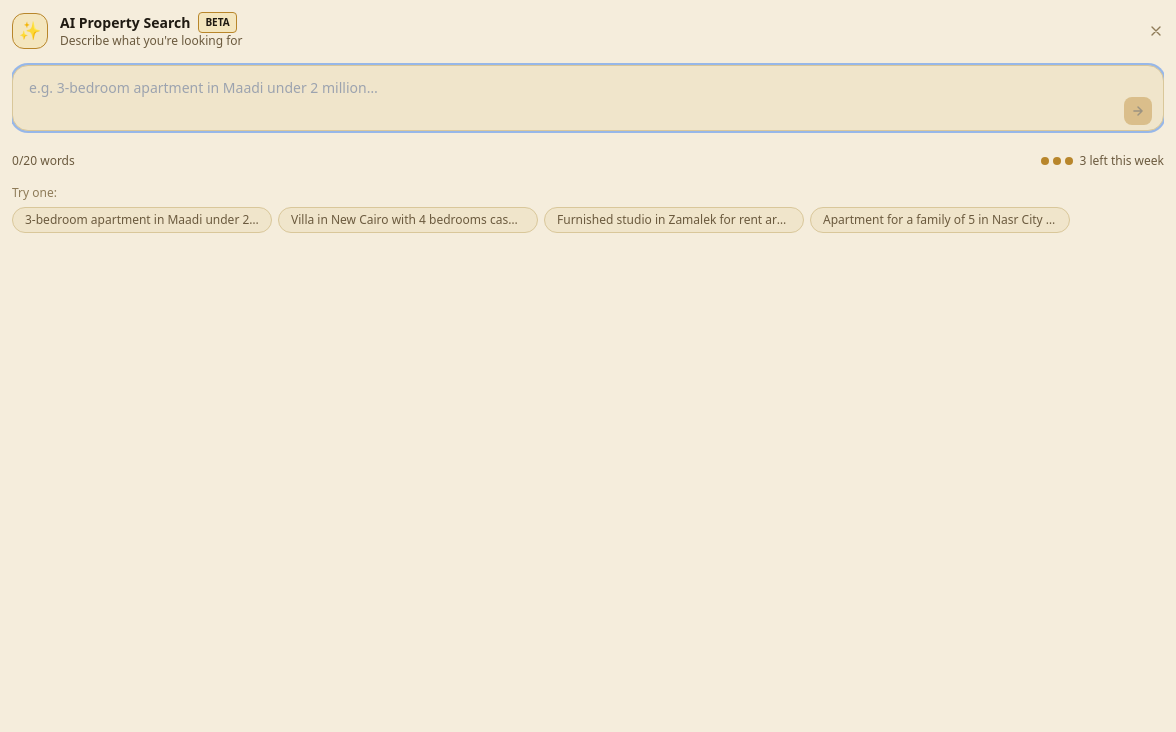
Scenario: AISearchPanel › renders plausibility corrections in details
The width and height of the screenshot is (1176, 732).
Type "3 bedroom apartment in Maadi under 2 million" into the text box with placeholder "e.g. 3-bedroom apartment in Maadi under 2 million…" at (588, 98), box [12, 65, 1164, 131]
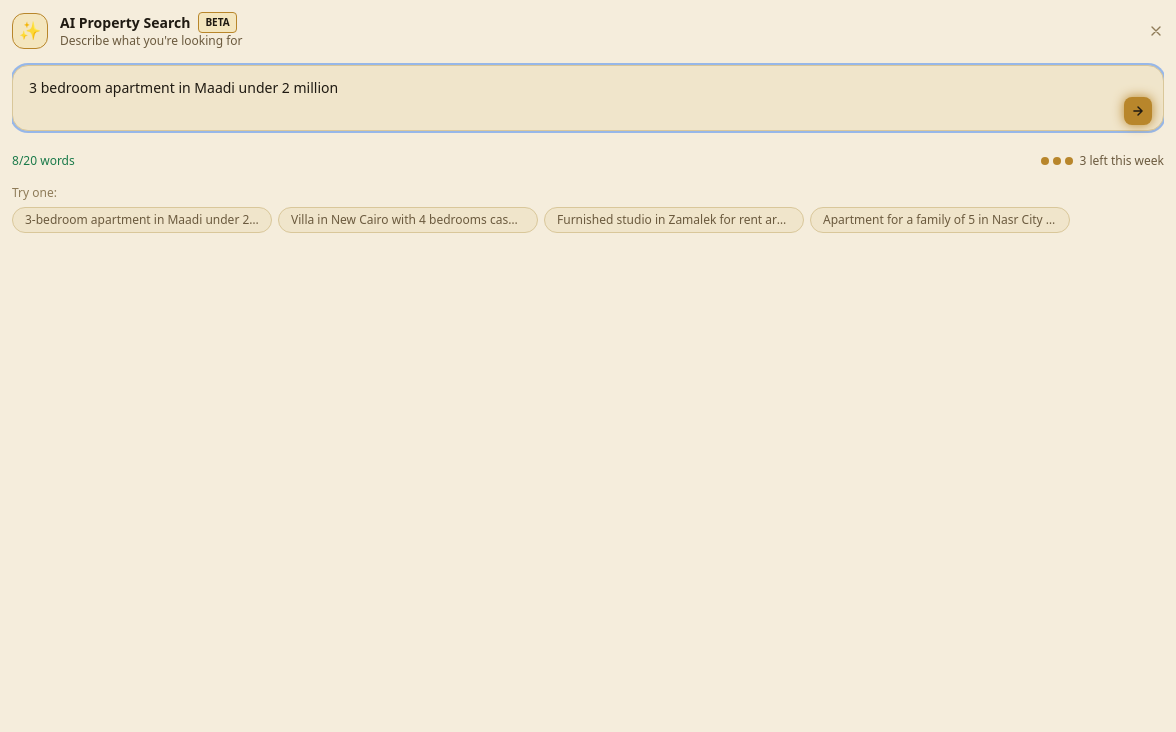
Press Enter
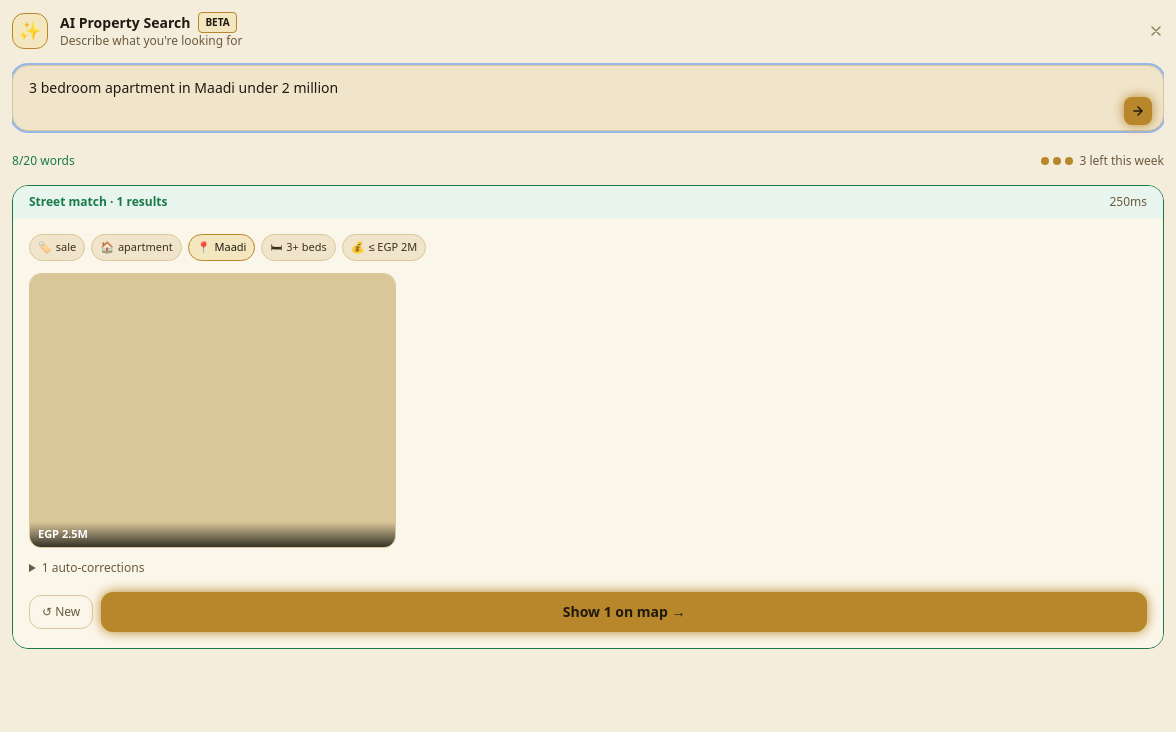
Check: the heading "1 auto-corrections" is shown, box [42, 559, 144, 576]
